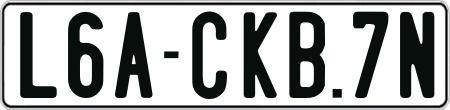6: (68, 9, 108, 99)
7: (350, 12, 387, 99)
A: (115, 11, 155, 99)
B: (288, 10, 329, 97)
C: (192, 10, 228, 97)
K: (244, 11, 277, 101)
L: (20, 11, 57, 98)
N: (397, 9, 433, 96)
